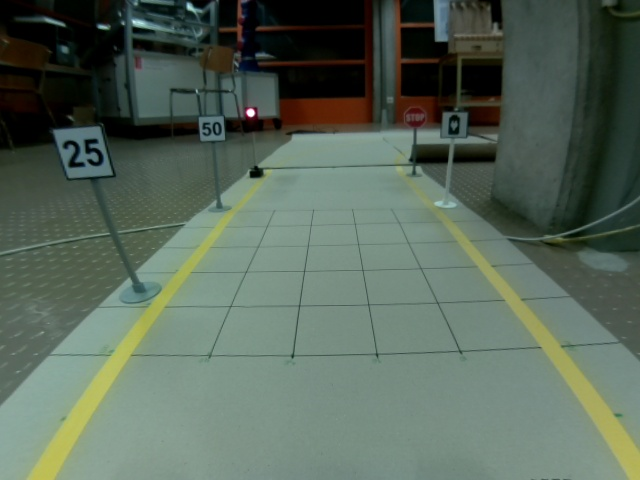battery: (440, 110, 469, 139)
speed25: (49, 122, 116, 181)
speed50: (197, 114, 227, 143)
stop: (404, 105, 427, 129)
trafficLightRed: (243, 106, 259, 132)
